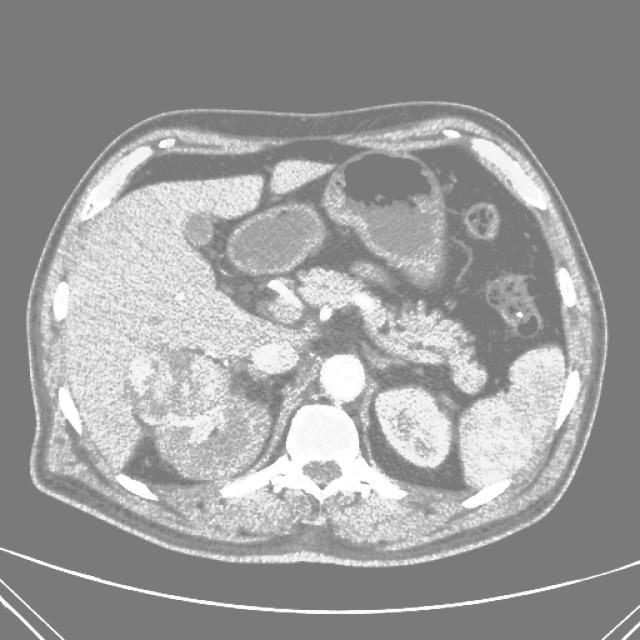TUMOR: (104, 200, 467, 432)
